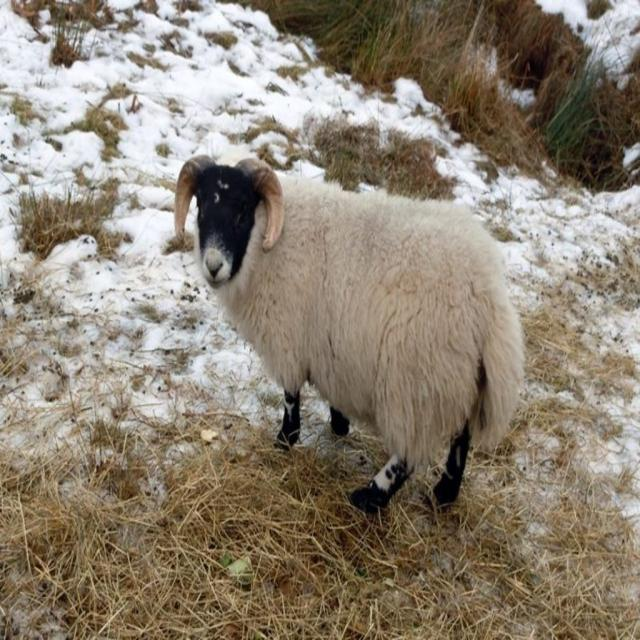Sheep: (174, 155, 525, 513)
